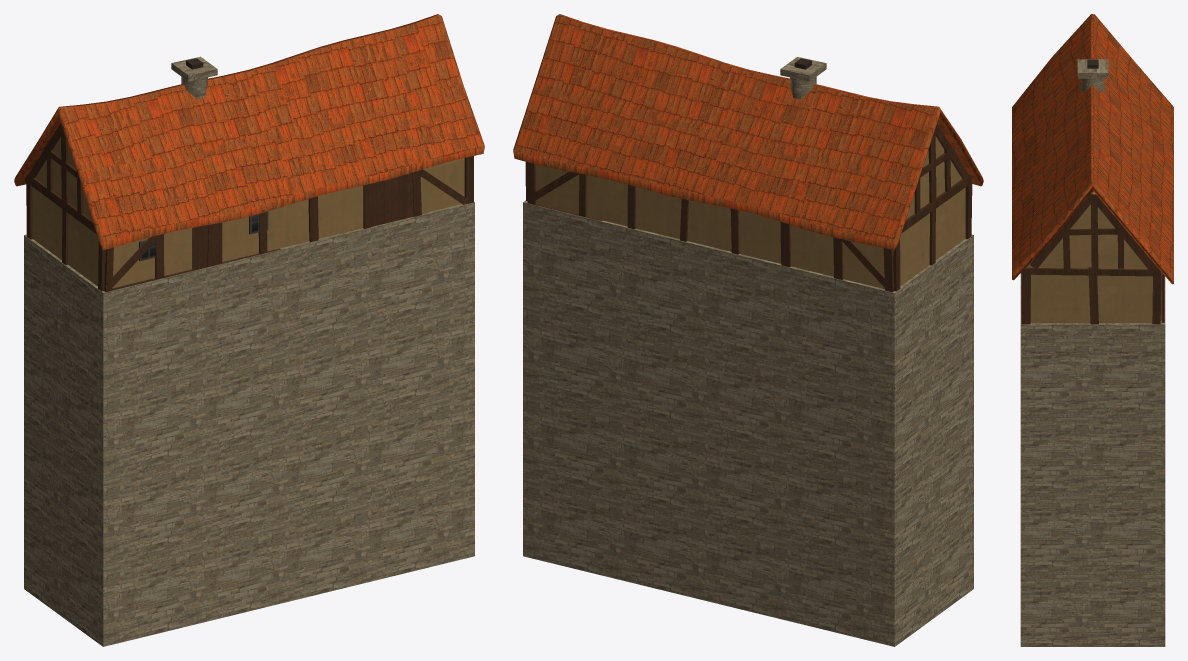
File: longhouse.glb
The picture shows the model from 3 angles, left to right: view 1: azimuth 30°, elevation 25°; view 2: azimuth 150°, elevation 25°; view 3: azimuth 270°, elevation 25°; orthographic projection. The views are drawn at different scales.
Parts seen in each view (by area): view 1: longhouse_export; view 2: longhouse_export; view 3: longhouse_export.
Boxes of the visible parts, x1=… form: longhouse_export: x1=14, y1=14, x2=484, y2=646; longhouse_export: x1=513, y1=14, x2=983, y2=646; longhouse_export: x1=1012, y1=14, x2=1173, y2=646.
Bounding box in the file's own units: 20 × 26.05 × 8.
Materials: 5 (5 with a texture image).
